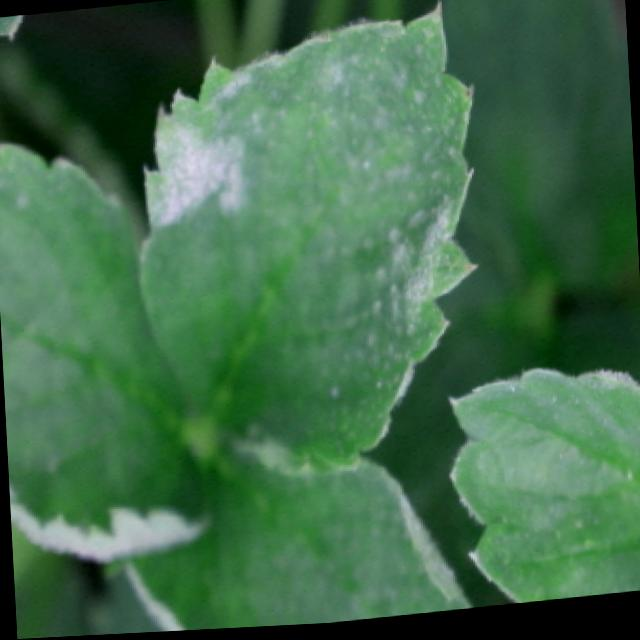Powdery Mildew Leaf: (134, 0, 479, 480), (0, 143, 216, 562), (123, 444, 476, 633)
